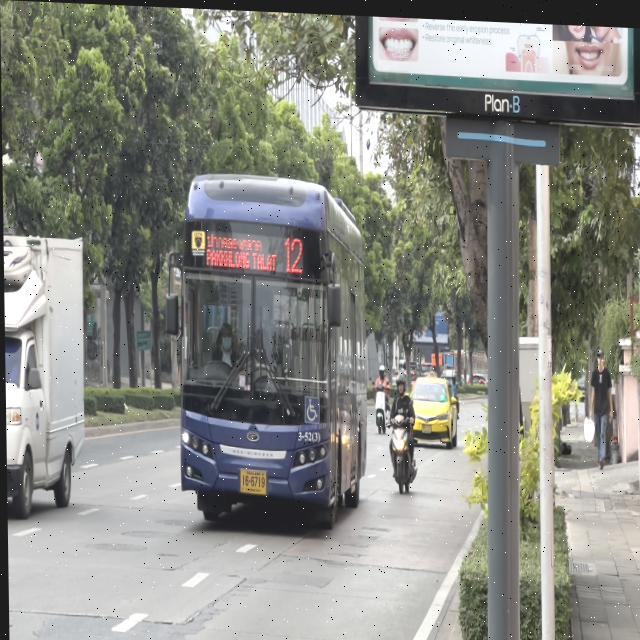Bus Line Number: (280, 230, 306, 277)
Bus Side Number: (295, 426, 320, 441)
Destination Sign: (203, 222, 278, 274)
TSB-Bus: (174, 172, 365, 526)
